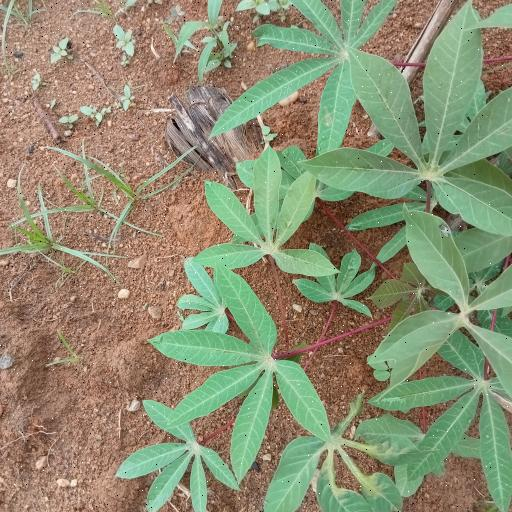Cassava_Mosaic: (153, 275, 335, 474), (337, 45, 512, 233), (386, 209, 512, 395), (198, 148, 335, 280), (266, 411, 426, 512)
